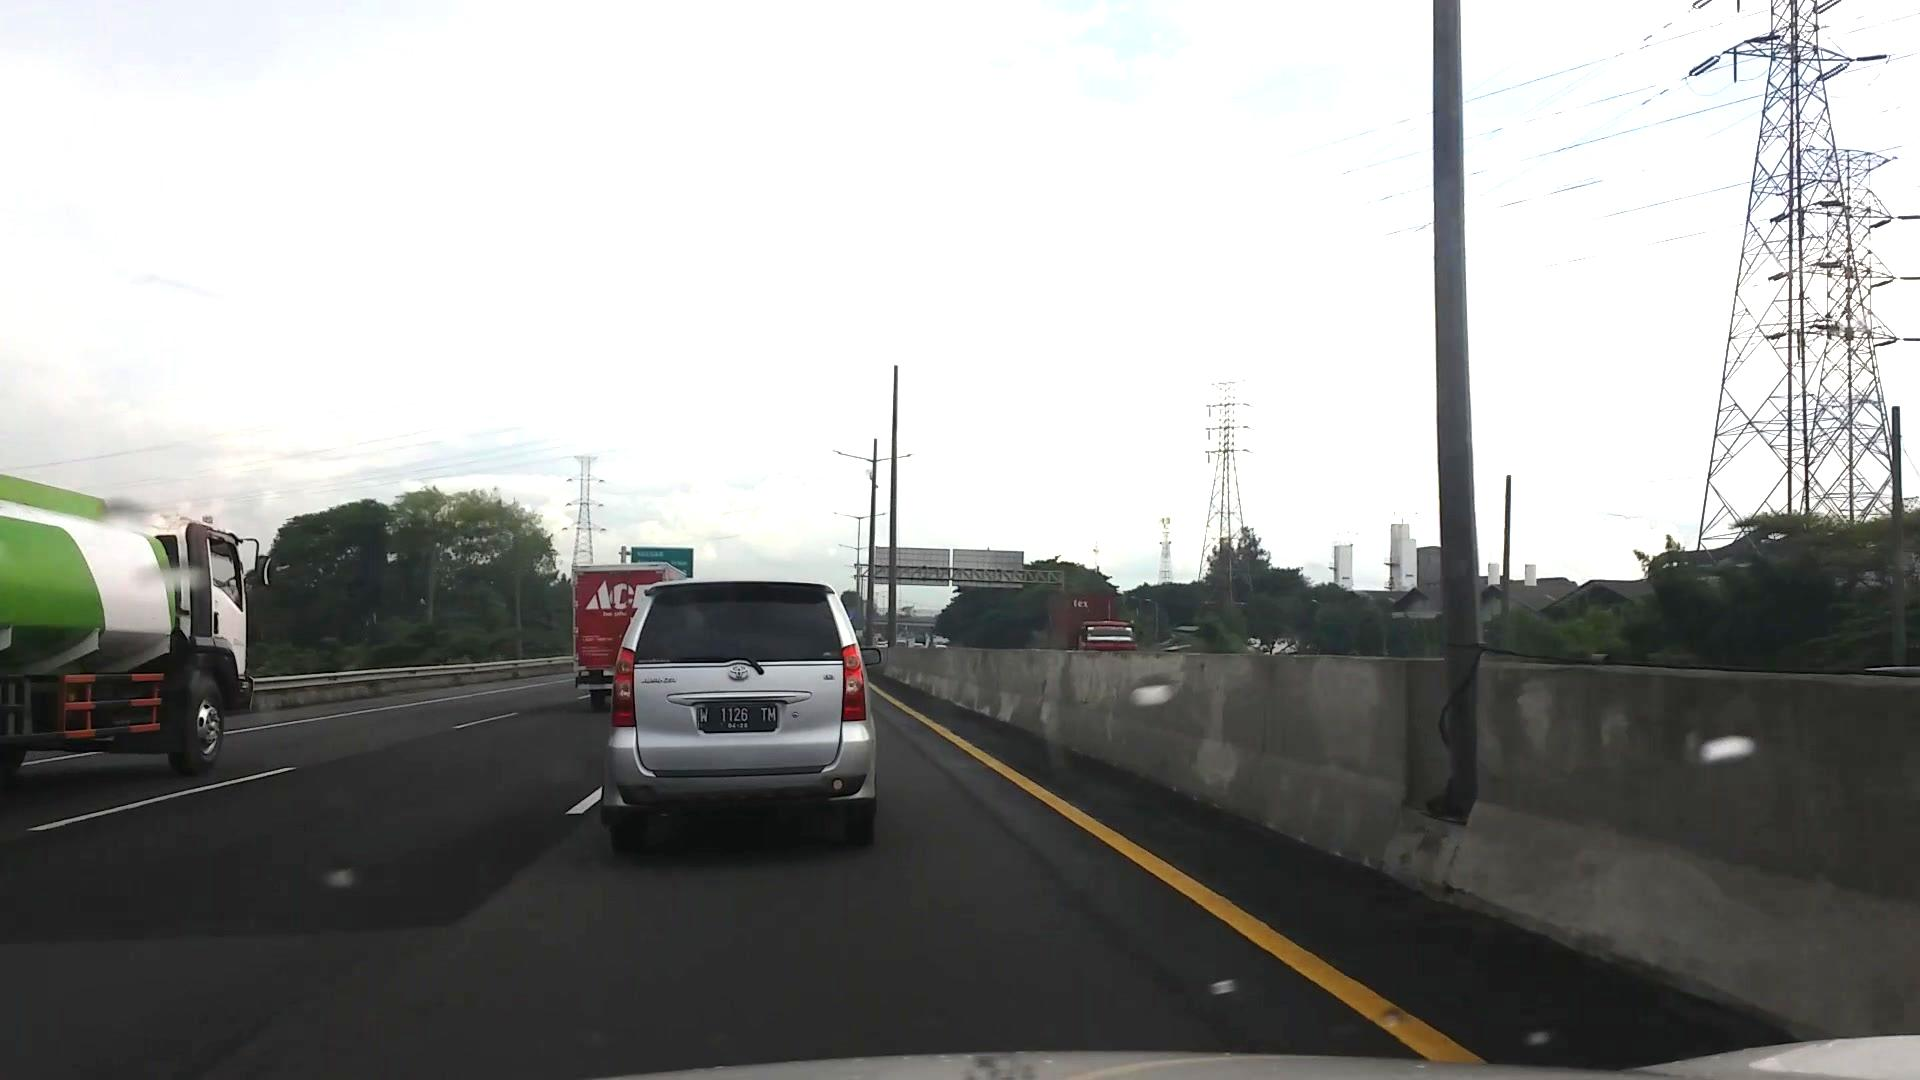plate_positive: (696, 704, 778, 733)
